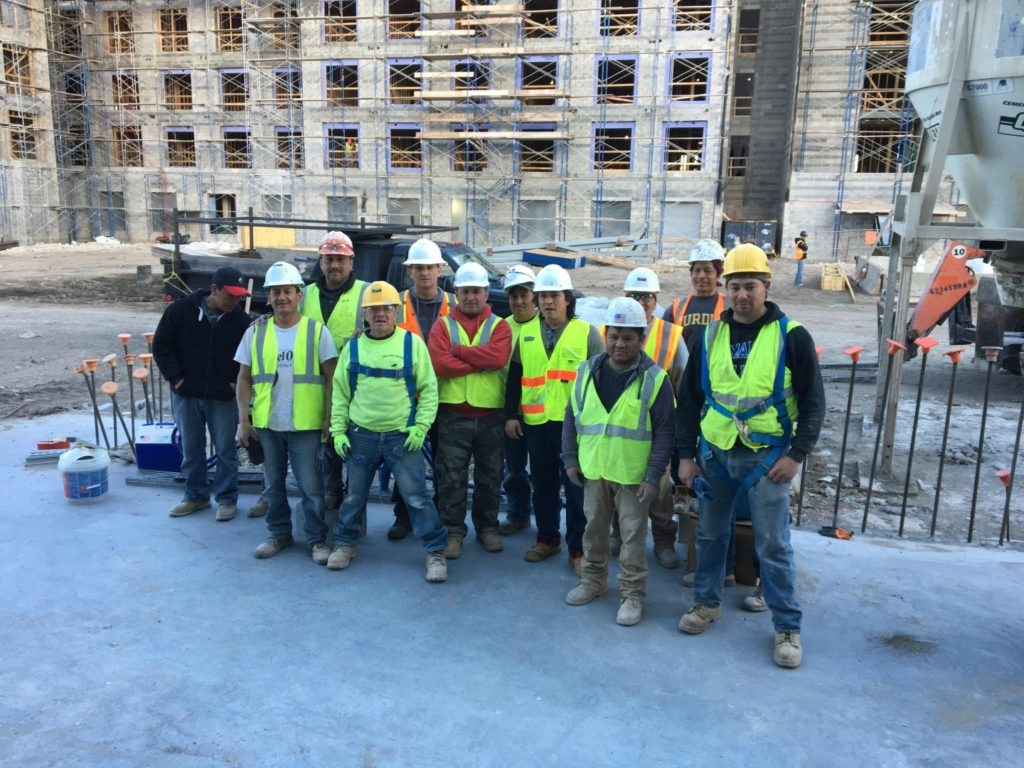none: (208, 267, 248, 313)
red: (318, 229, 358, 283)
white: (601, 297, 648, 359), (532, 262, 573, 322), (263, 261, 302, 317), (687, 238, 725, 293), (451, 260, 490, 313), (406, 238, 441, 290), (622, 268, 660, 315), (504, 265, 537, 314)
yellow: (720, 241, 773, 316), (360, 279, 402, 334)
